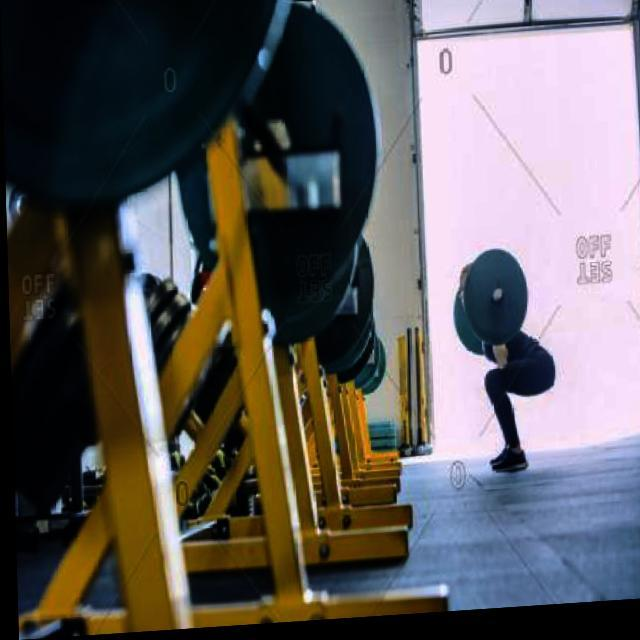barbell: (456, 246, 534, 358)
